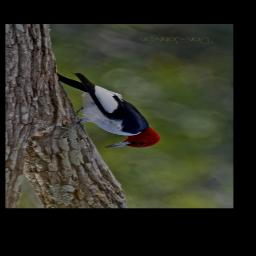Woodpecker: (51, 71, 164, 151)
